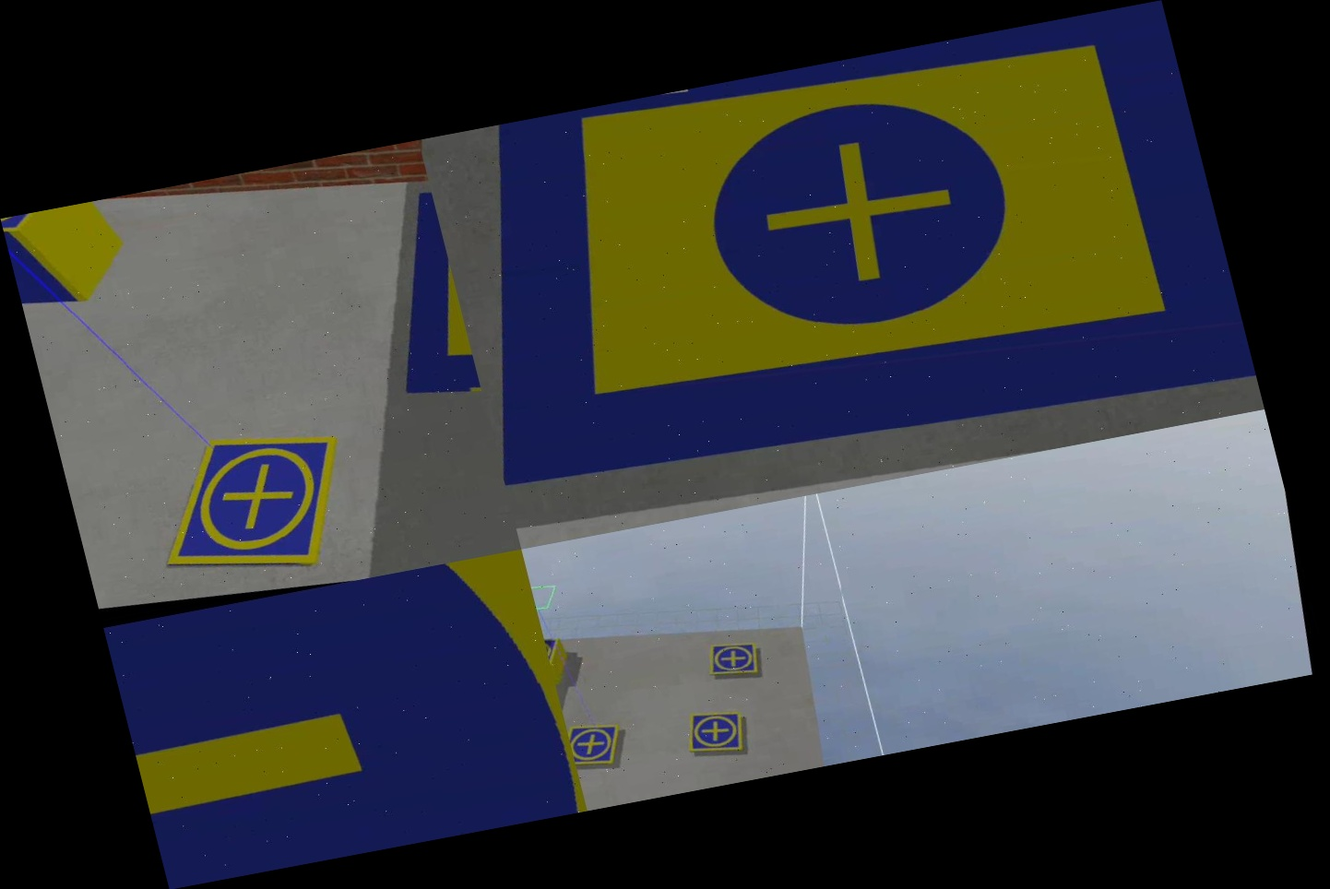large_base: (419, 0, 1263, 543), (103, 549, 588, 889), (355, 182, 489, 433)
small_base: (142, 412, 367, 589), (681, 703, 754, 761), (1, 204, 85, 248), (566, 716, 629, 773), (700, 634, 767, 684), (542, 631, 567, 673)
